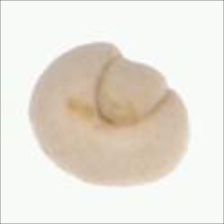L5: (94, 53, 176, 131)
L6: (26, 39, 191, 189)
